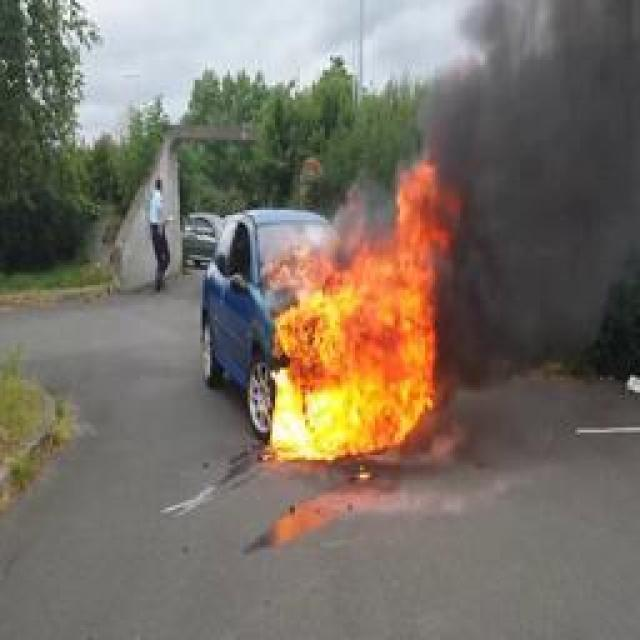Fire: (265, 156, 463, 462)
